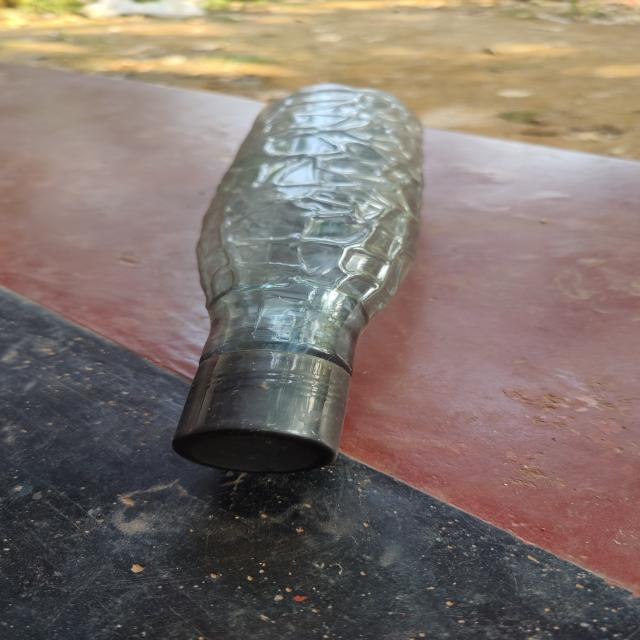plastic: (179, 83, 427, 490)
